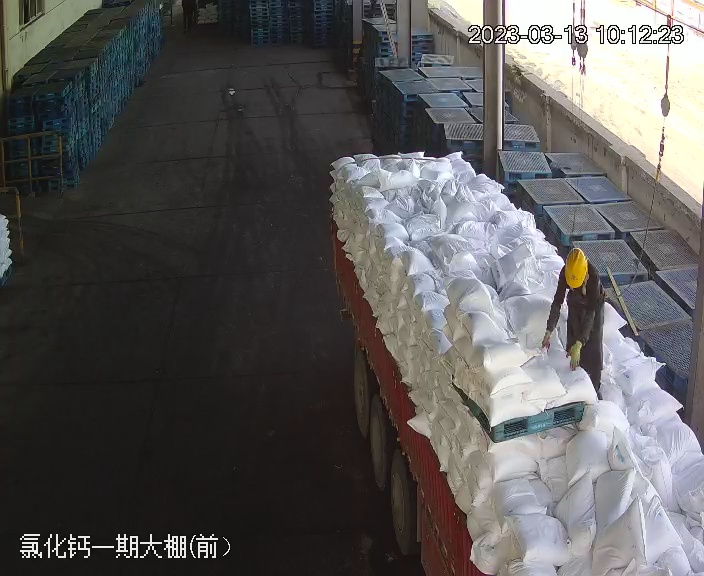belt: (567, 273, 593, 296)
head: (555, 246, 604, 300)
helmet: (561, 247, 589, 287)
people: (542, 248, 608, 401)
truck: (312, 148, 698, 574)
